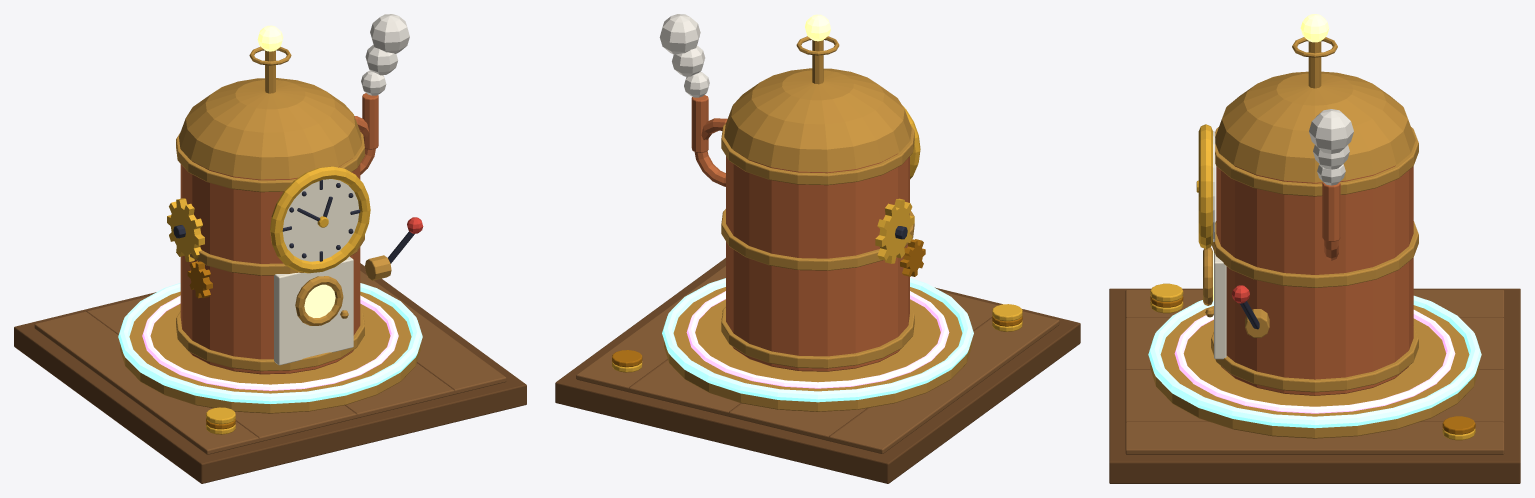
The model's file is time_machine.glb.
The picture shows the model from 3 angles, left to right: view 1: azimuth 30°, elevation 25°; view 2: azimuth 150°, elevation 25°; view 3: azimuth 270°, elevation 25°; orthographic projection. The views are drawn at different scales.
Parts seen in each view (by area): view 1: TimeMachine; view 2: TimeMachine; view 3: TimeMachine.
Boxes of the visible parts, x1,y1,x2,y2 form: TimeMachine: (14,14,526,483); TimeMachine: (555,14,1080,483); TimeMachine: (1109,14,1520,483).
Bounding box in the file's own units: 2 × 2.05 × 2.
